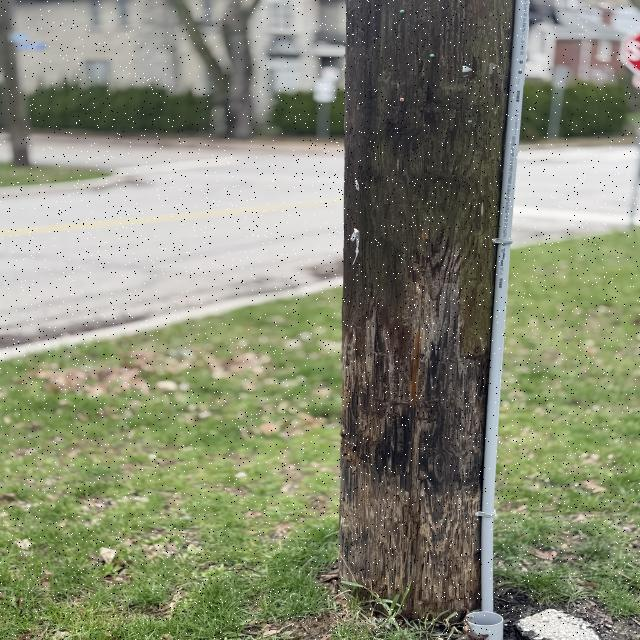Electrical Pole: (332, 2, 538, 638)
